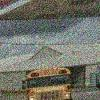buses: (21, 66, 76, 100)
